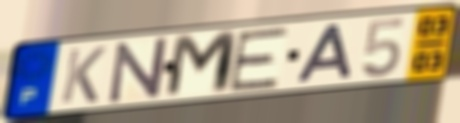5: (359, 14, 408, 80)
A: (292, 22, 355, 85)
E: (225, 24, 292, 94)
K: (57, 45, 109, 106)
M: (162, 28, 242, 101)
N: (107, 35, 169, 106)
